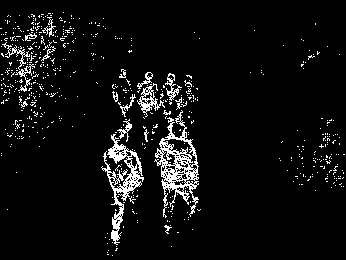person: (100, 128, 144, 256), (154, 122, 202, 234), (134, 70, 160, 147), (111, 67, 136, 132), (158, 72, 183, 123), (179, 73, 200, 124)
